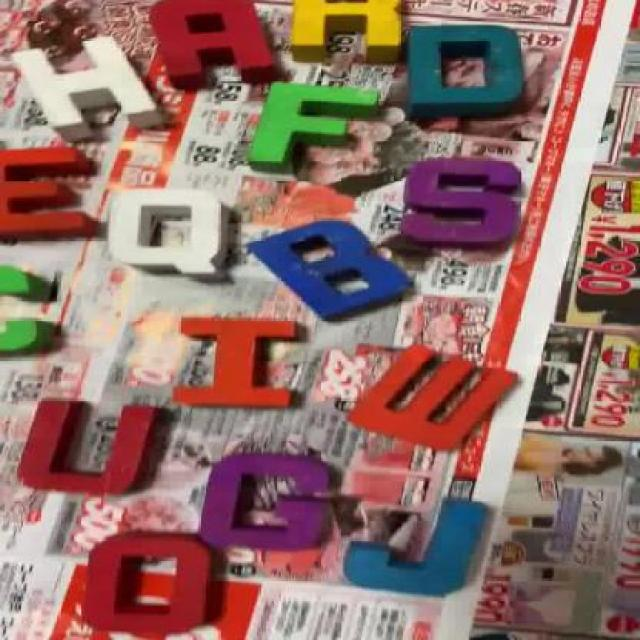A: (152, 0, 278, 82)
B: (252, 219, 418, 318)
D: (409, 24, 528, 116)
F: (248, 84, 370, 168)
G: (202, 456, 335, 550)
H: (17, 37, 165, 143)
I: (177, 317, 297, 408)
J: (350, 500, 485, 594)
O: (84, 532, 219, 634)
Q: (110, 189, 225, 280)
S: (406, 160, 523, 245)
U: (17, 397, 166, 497)
W: (350, 346, 513, 446)
